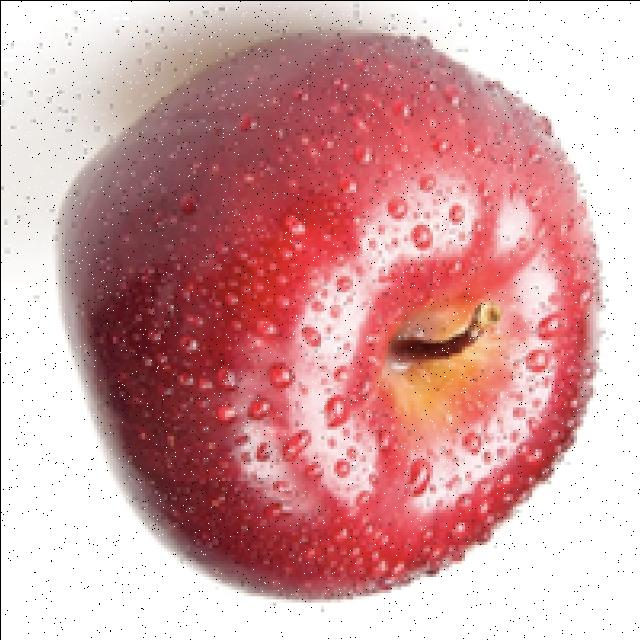apple: (42, 3, 611, 612)
